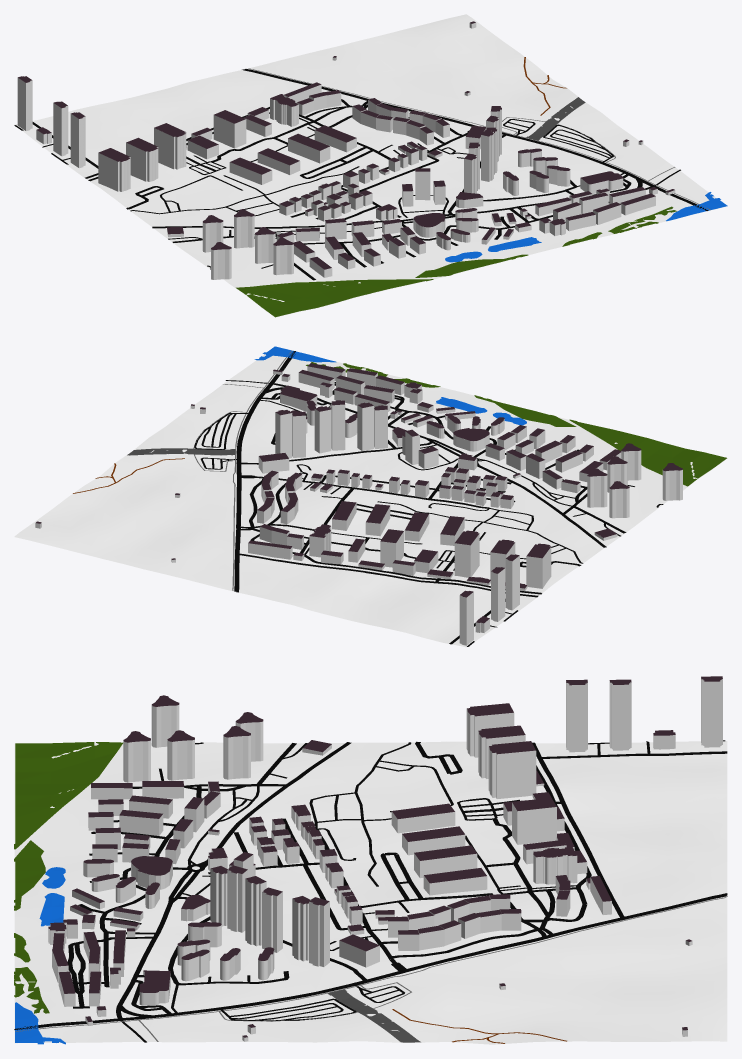
File: tile_7_1.glb
The picture shows the model from 3 angles, top to bottom: view 1: azimuth 30°, elevation 25°; view 2: azimuth 150°, elevation 25°; view 3: azimuth 270°, elevation 25°; orthographic projection. The views are drawn at different scales.
Parts seen in each view (by area): view 1: terrain_7_1, ulaanbaatar.osm_buildings_7_1, ulaanbaatar.osm_forest_mesh_7_1, ulaanbaatar.osm_roads_residential_mesh_7_1, ulaanbaatar.osm_roads_service_mesh_7_1, ulaanbaatar.osm_water_mesh_7_1, ulaanbaatar.osm_roads_primary_mesh_7_1, ulaanbaatar.osm_paths_cycleway_mesh_7_1, ulaanbaatar.osm_areas_pedestrian_mesh_7_1, ulaanbaatar.osm_roads_tertiary_mesh_7_1; view 2: terrain_7_1, ulaanbaatar.osm_buildings_7_1, ulaanbaatar.osm_roads_residential_mesh_7_1, ulaanbaatar.osm_forest_mesh_7_1, ulaanbaatar.osm_roads_service_mesh_7_1, ulaanbaatar.osm_roads_primary_mesh_7_1, ulaanbaatar.osm_water_mesh_7_1, ulaanbaatar.osm_roads_tertiary_mesh_7_1, ulaanbaatar.osm_areas_pedestrian_mesh_7_1, ulaanbaatar.osm_paths_cycleway_mesh_7_1; view 3: terrain_7_1, ulaanbaatar.osm_buildings_7_1, ulaanbaatar.osm_roads_residential_mesh_7_1, ulaanbaatar.osm_forest_mesh_7_1, ulaanbaatar.osm_roads_service_mesh_7_1, ulaanbaatar.osm_roads_primary_mesh_7_1, ulaanbaatar.osm_water_mesh_7_1, ulaanbaatar.osm_roads_tertiary_mesh_7_1, ulaanbaatar.osm_paths_cycleway_mesh_7_1, ulaanbaatar.osm_areas_pedestrian_mesh_7_1.
Part boxes in pixels (box(x1,y1,x2,y2)): terrain_7_1: box(14, 14, 726, 317); ulaanbaatar.osm_buildings_7_1: box(17, 21, 675, 279); ulaanbaatar.osm_forest_mesh_7_1: box(236, 206, 676, 317); ulaanbaatar.osm_roads_residential_mesh_7_1: box(32, 99, 631, 280); ulaanbaatar.osm_roads_service_mesh_7_1: box(14, 117, 680, 269); ulaanbaatar.osm_water_mesh_7_1: box(445, 192, 727, 262); ulaanbaatar.osm_roads_primary_mesh_7_1: box(242, 69, 708, 210); ulaanbaatar.osm_paths_cycleway_mesh_7_1: box(248, 68, 710, 210); ulaanbaatar.osm_areas_pedestrian_mesh_7_1: box(526, 97, 585, 140); ulaanbaatar.osm_roads_tertiary_mesh_7_1: box(152, 186, 653, 228); terrain_7_1: box(14, 354, 727, 647); ulaanbaatar.osm_buildings_7_1: box(35, 363, 682, 645); ulaanbaatar.osm_roads_residential_mesh_7_1: box(237, 382, 626, 644); ulaanbaatar.osm_forest_mesh_7_1: box(306, 362, 726, 486); ulaanbaatar.osm_roads_service_mesh_7_1: box(194, 380, 663, 646); ulaanbaatar.osm_roads_primary_mesh_7_1: box(234, 351, 295, 592); ulaanbaatar.osm_water_mesh_7_1: box(254, 346, 526, 425); ulaanbaatar.osm_roads_tertiary_mesh_7_1: box(271, 383, 606, 547); ulaanbaatar.osm_areas_pedestrian_mesh_7_1: box(127, 448, 235, 455); ulaanbaatar.osm_paths_cycleway_mesh_7_1: box(193, 350, 291, 590); terrain_7_1: box(14, 741, 727, 1044); ulaanbaatar.osm_buildings_7_1: box(48, 676, 722, 1041); ulaanbaatar.osm_roads_residential_mesh_7_1: box(67, 741, 727, 1015); ulaanbaatar.osm_forest_mesh_7_1: box(14, 742, 122, 1013); ulaanbaatar.osm_roads_service_mesh_7_1: box(121, 740, 725, 1042); ulaanbaatar.osm_roads_primary_mesh_7_1: box(14, 893, 727, 1030); ulaanbaatar.osm_water_mesh_7_1: box(15, 867, 65, 1044); ulaanbaatar.osm_roads_tertiary_mesh_7_1: box(116, 742, 351, 1019); ulaanbaatar.osm_paths_cycleway_mesh_7_1: box(15, 897, 726, 1041); ulaanbaatar.osm_areas_pedestrian_mesh_7_1: box(328, 989, 420, 1042).
Size of the model in its own units: 1026 by 109 by 1002.
